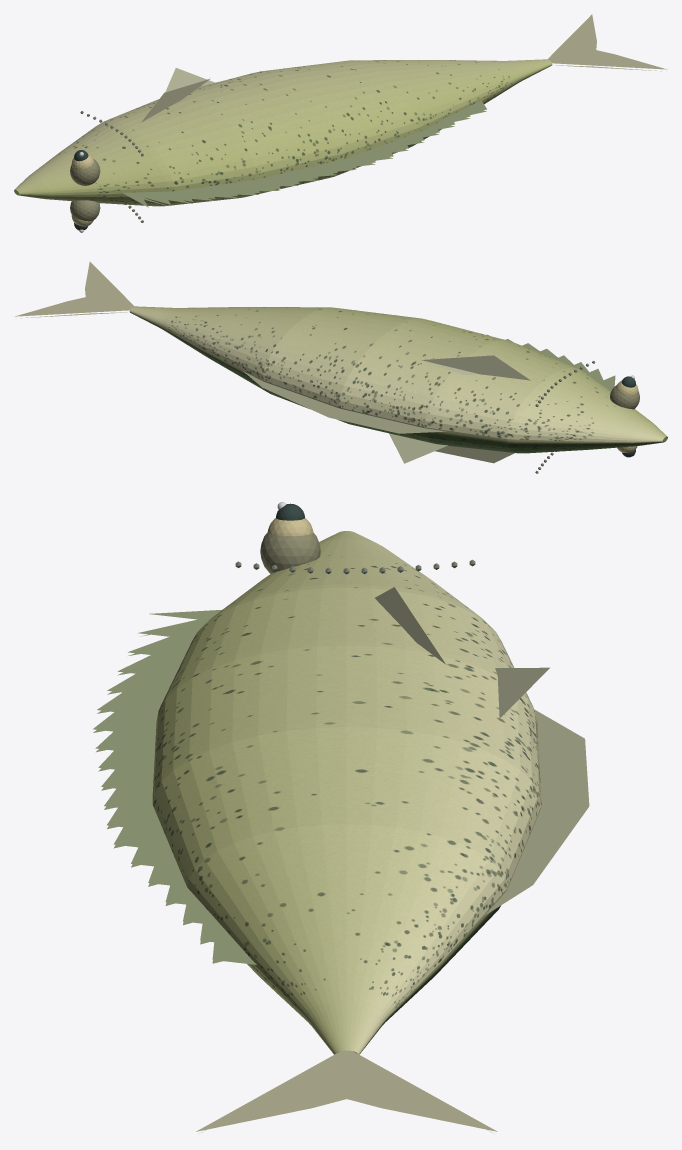
The model's file is Ikan_Baronang.glb.
3 renders of one model, top to bottom at view 1: azimuth 30°, elevation 25°; view 2: azimuth 150°, elevation 25°; view 3: azimuth 270°, elevation 25°, orthographic. The views are drawn at different scales.
Parts seen in each view (by area): view 1: fish; view 2: fish; view 3: fish.
Part boxes in pixels (<box>): fish: <box>14,14,667,232</box>; fish: <box>15,261,667,473</box>; fish: <box>93,502,589,1133</box>.
Size of the model in its own units: 3.27 by 0.55 by 1.15.
1 material, 1 textured.
